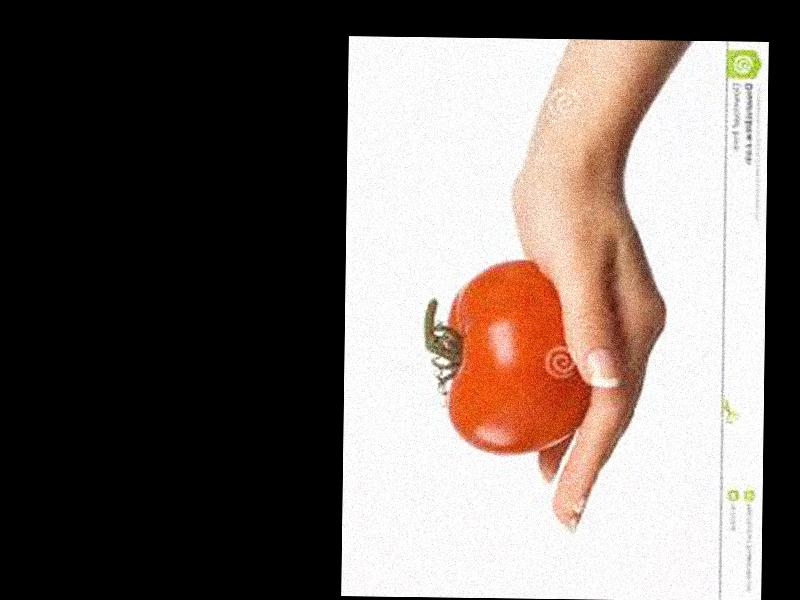Tomato: (446, 259, 591, 455)
